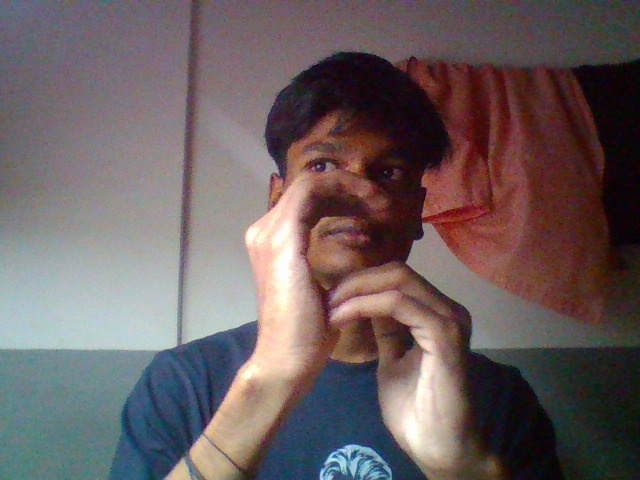G: (218, 165, 514, 466)
